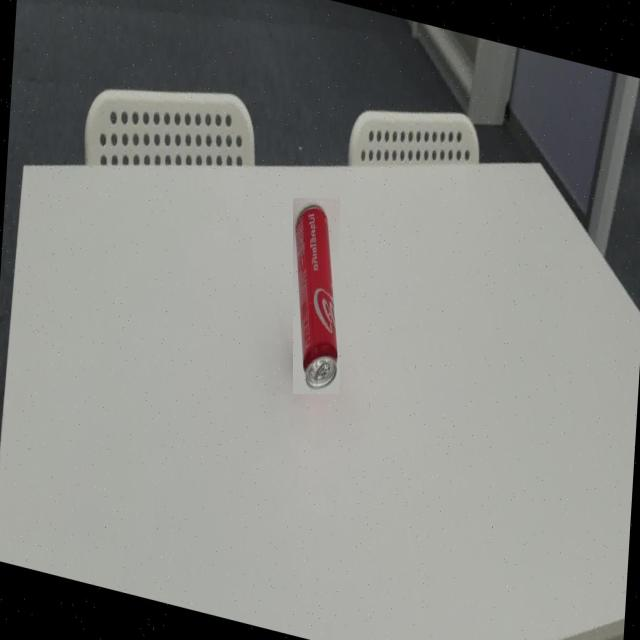coca-cola: (293, 198, 340, 394)
